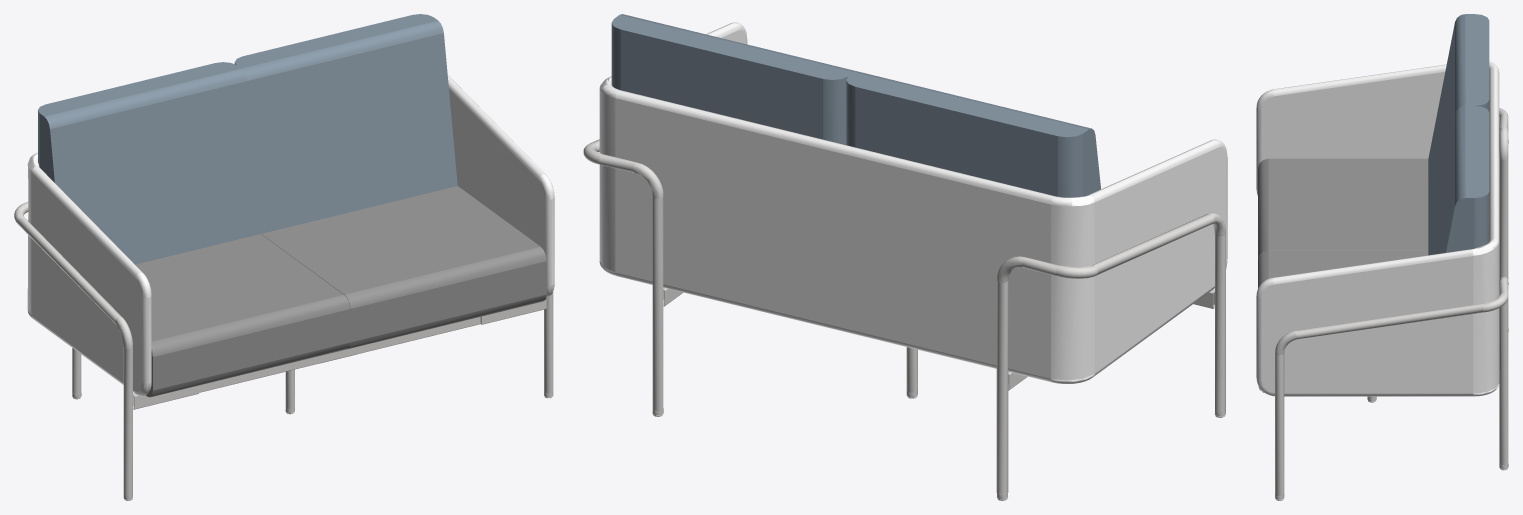
3 renders of one model, left to right at view 1: azimuth 30°, elevation 25°; view 2: azimuth 150°, elevation 25°; view 3: azimuth 270°, elevation 25°, orthographic. The views are drawn at different scales.
Parts seen in each view (by area): view 1: 15 (×2), 13, 4, 14, 87, 85, 83, 16, 82, 80; view 2: 4, 16, 14, 87, 13, 15, 83; view 3: 4, 14 (×2), 15 (×2), 13, 83, 87.
Part boxes in pixels (x1=…): 15 (×2): x1=235, y1=14, x2=546, y2=349; 13: x1=38, y1=62, x2=260, y2=264; 4: x1=27, y1=75, x2=554, y2=396; 14: x1=135, y1=234, x2=349, y2=397; 87: x1=14, y1=202, x2=132, y2=495; 85: x1=199, y1=317, x2=480, y2=392; 83: x1=544, y1=292, x2=553, y2=393; 16: x1=38, y1=111, x2=54, y2=182; 82: x1=133, y1=385, x2=199, y2=409; 80: x1=481, y1=298, x2=546, y2=324; 4: x1=599, y1=22, x2=1227, y2=383; 16: x1=846, y1=81, x2=1100, y2=197; 14: x1=611, y1=24, x2=847, y2=144; 87: x1=996, y1=212, x2=1225, y2=494; 13: x1=846, y1=71, x2=1100, y2=187; 15: x1=611, y1=14, x2=856, y2=80; 83: x1=583, y1=139, x2=663, y2=410; 4: x1=1256, y1=61, x2=1499, y2=396; 14 (×2): x1=1258, y1=158, x2=1489, y2=258; 15 (×2): x1=1258, y1=106, x2=1489, y2=392; 13: x1=1428, y1=14, x2=1489, y2=249; 83: x1=1275, y1=276, x2=1508, y2=496; 87: x1=1499, y1=108, x2=1508, y2=279.
Bounding box in the file's own units: 1.31 × 0.8975 × 0.6945.
